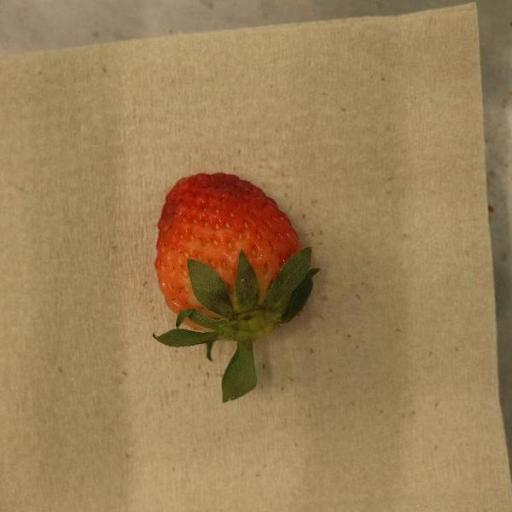Strawberry: (153, 173, 320, 404)
